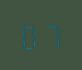seven: (41, 19, 62, 49)
zero: (19, 20, 40, 50)
